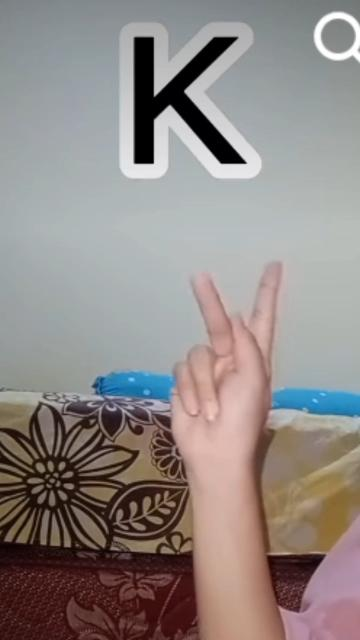K: (170, 257, 284, 471)
